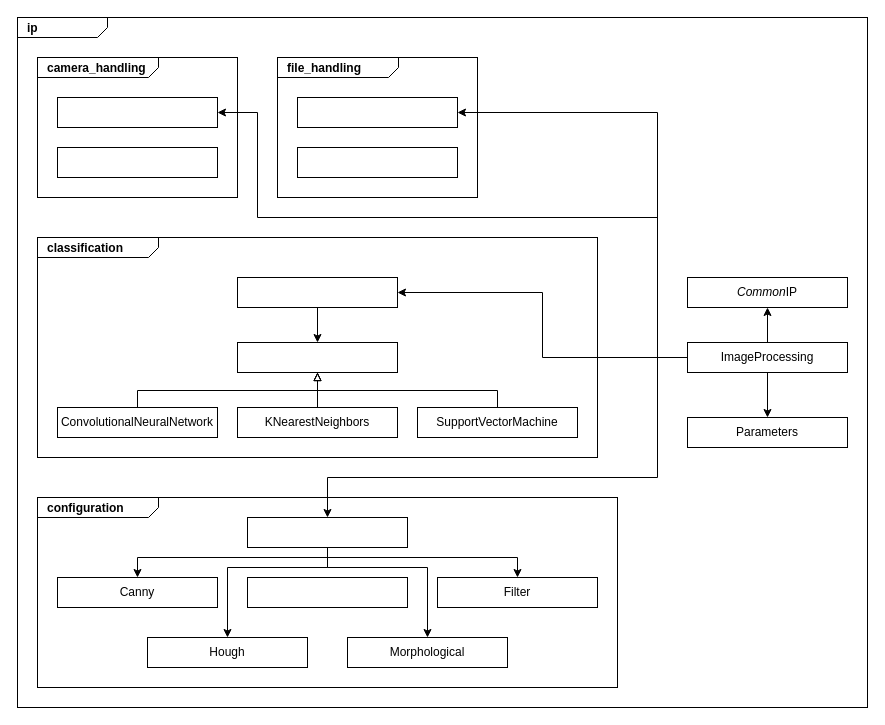
Image size: 885x725. Some labels were removed from this diagram. The shapes that lost their labels are listed below. From the top down, each one's centre as x and y in pixels, then its label:
pixel 137 112: CameraHandler
pixel 377 112: FileHandler
pixel 137 162: SignalWaiter
pixel 377 162: ParametersHandler
pixel 317 292: Classifier
pixel 317 357: << AbstractClassifier >>
pixel 327 532: Configurer
pixel 327 592: Conversion
